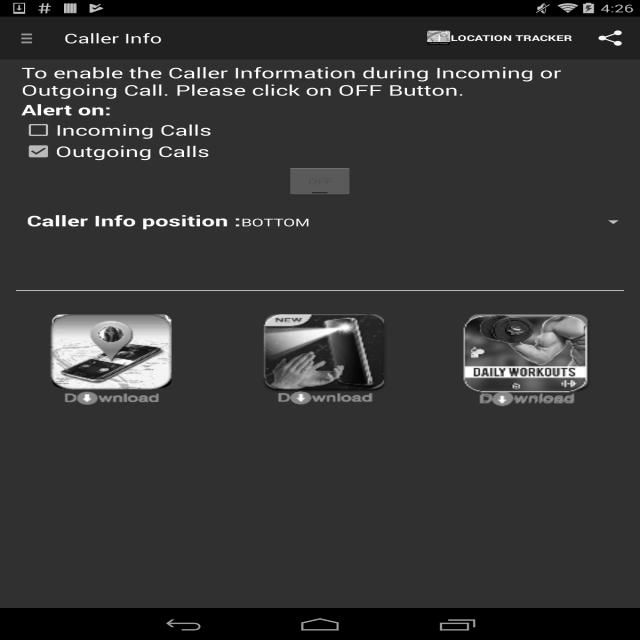Button: (16, 290, 624, 291)
CheckBox: (21, 119, 212, 141), (21, 141, 210, 162)
ImageButton: (0, 19, 60, 57)
ImageView: (37, 314, 176, 401), (453, 314, 592, 401), (251, 314, 389, 401), (580, 26, 640, 50)
Spinner: (241, 214, 624, 230)
TextView: (21, 62, 619, 100), (21, 100, 624, 119), (419, 22, 580, 54), (241, 215, 607, 229), (27, 211, 241, 230), (64, 29, 162, 47)
